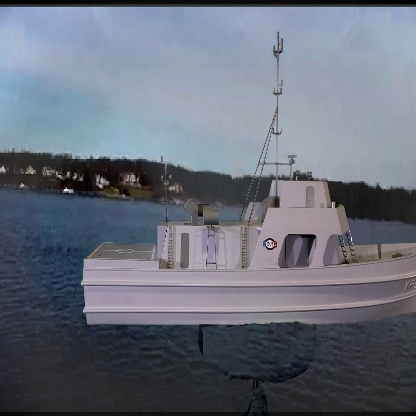YP689: (79, 28, 416, 328)
